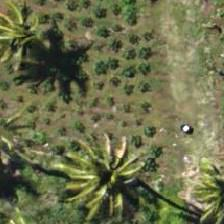Kelapa_Sawit: (57, 138, 148, 223), (0, 0, 68, 79), (169, 144, 223, 223)
